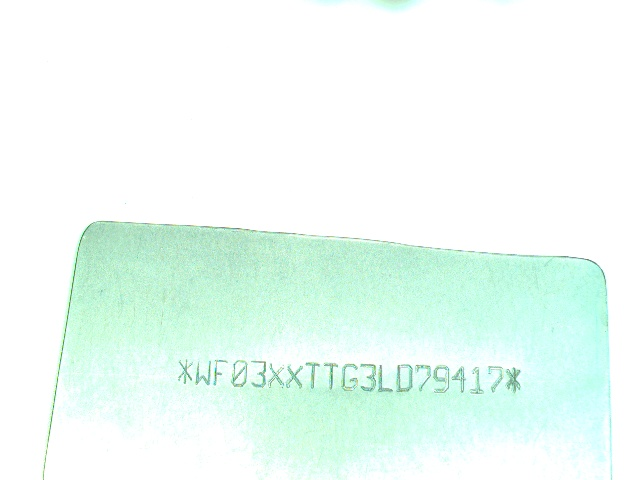0: (231, 358, 248, 389)
1: (469, 366, 483, 394)
3: (249, 359, 267, 388), (360, 362, 376, 391)
4: (453, 365, 467, 394)
7: (485, 364, 505, 394), (414, 362, 432, 395)
9: (433, 364, 450, 394)
d: (395, 362, 414, 394)
f: (212, 358, 228, 388)
g: (341, 362, 360, 393)
l: (377, 364, 394, 395)
t: (303, 360, 321, 391), (323, 360, 339, 392)
w: (195, 359, 212, 386)
x: (285, 362, 305, 392), (268, 362, 285, 390)
